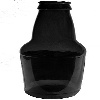beer: (21, 1, 87, 100)
